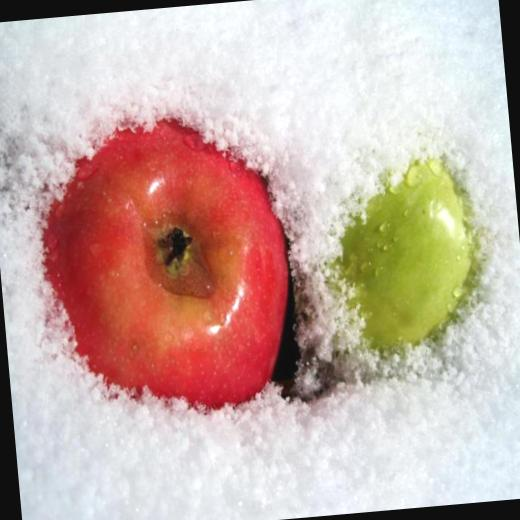Apple: (28, 106, 303, 418), (311, 150, 488, 360)
